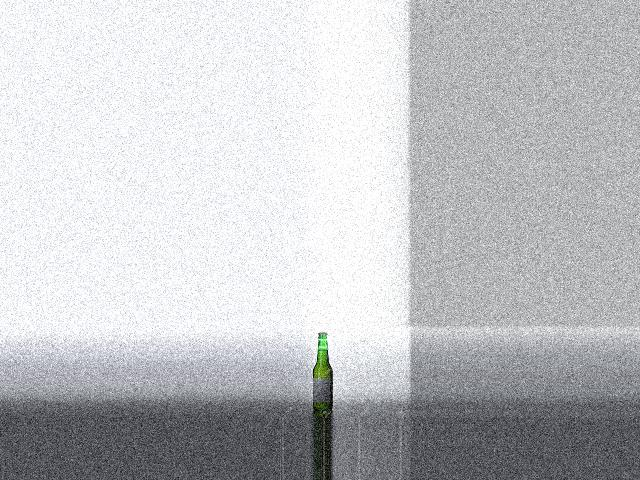beer: (313, 332, 333, 410)
